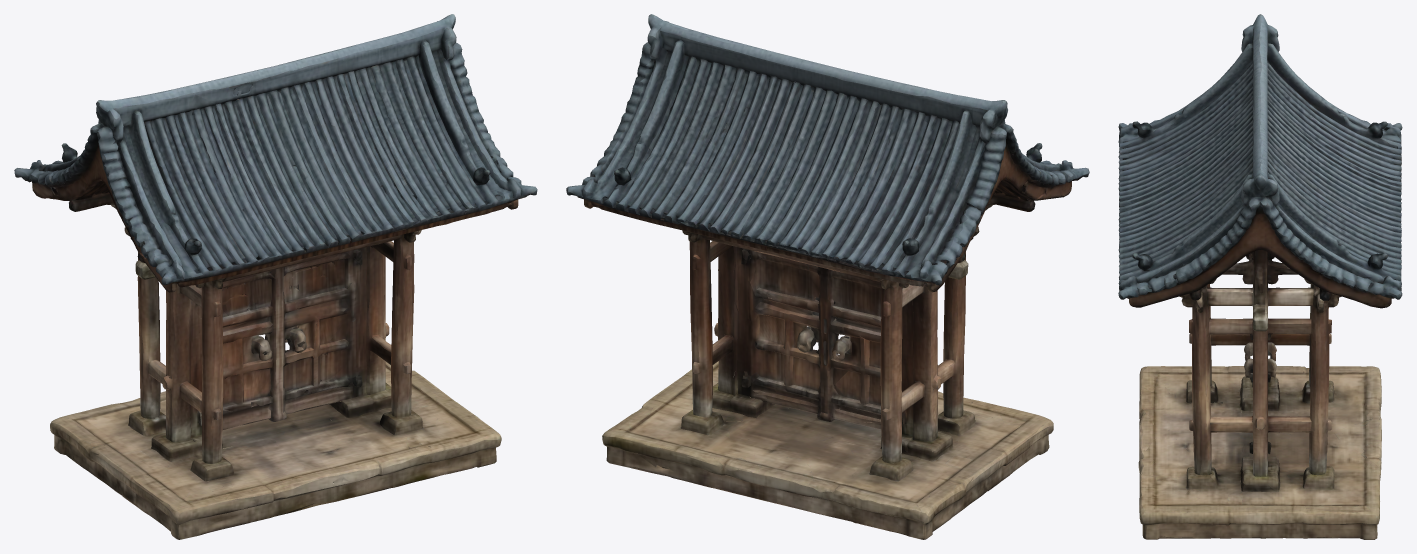
Rendered from ARCH-016.glb.
3 views of the same model, side by side, from view 1: azimuth 30°, elevation 25°; view 2: azimuth 150°, elevation 25°; view 3: azimuth 270°, elevation 25° (orthographic). The views are drawn at different scales.
Parts seen in each view (by area): view 1: gate-building-fixed, gate-floor-platform, gate-door-right-visual, gate-door-left-visual; view 2: gate-building-fixed, gate-floor-platform, gate-door-right-visual, gate-door-left-visual; view 3: gate-building-fixed, gate-floor-platform, gate-door-left-visual, gate-door-right-visual.
Part boxes in pixels (x1,y1,x2,y2): gate-building-fixed: [14, 14, 537, 515]; gate-floor-platform: [50, 361, 501, 539]; gate-door-right-visual: [276, 247, 367, 420]; gate-door-left-visual: [190, 268, 283, 441]; gate-building-fixed: [566, 14, 1089, 511]; gate-floor-platform: [602, 361, 1053, 539]; gate-door-right-visual: [723, 246, 827, 415]; gate-door-left-visual: [821, 267, 913, 442]; gate-building-fixed: [1118, 14, 1402, 495]; gate-floor-platform: [1138, 366, 1381, 539]; gate-door-left-visual: [1244, 259, 1278, 399]; gate-door-right-visual: [1244, 334, 1276, 454].
Bounding box in the file's own units: 5.42 × 5.5 × 3.8.
1 material, 1 textured.
